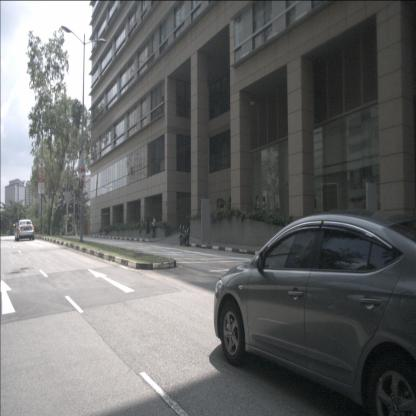human-pedestrian-adult: (255, 195, 260, 223), (312, 193, 316, 222), (151, 215, 156, 238), (146, 218, 151, 240), (262, 197, 266, 223), (139, 219, 144, 236)
vehicle-car: (214, 213, 416, 416), (14, 220, 34, 241)
vehicle-motorcycle: (179, 227, 190, 246)
